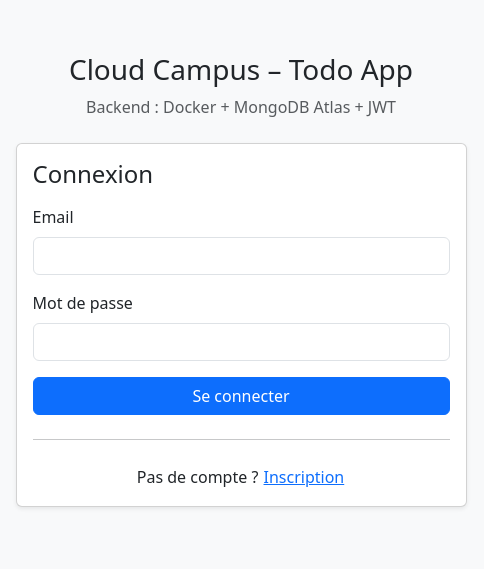
Scenario: App › permet de basculer vers le mode inscription puis retour connexion
Click the button "Inscription".
click(304, 477)  # box x1=262 y1=464 x2=345 y2=490
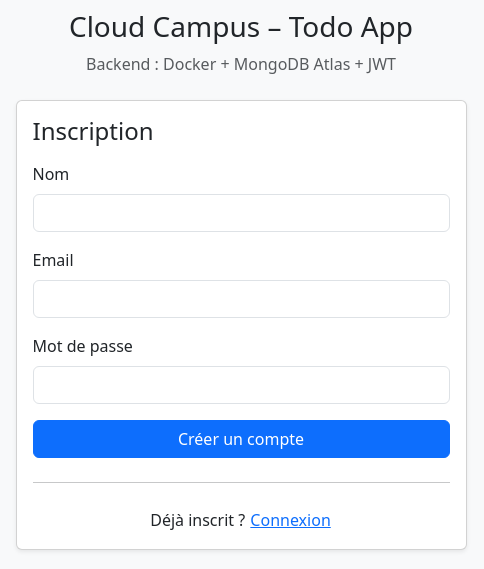
Result: the heading "Inscription" is shown at x1=32 y1=114 x2=154 y2=147
Result: the button "Créer un compte" is shown at x1=32 y1=420 x2=450 y2=458
Click the button "Connexion".
click(290, 520)  # box x1=249 y1=507 x2=332 y2=533
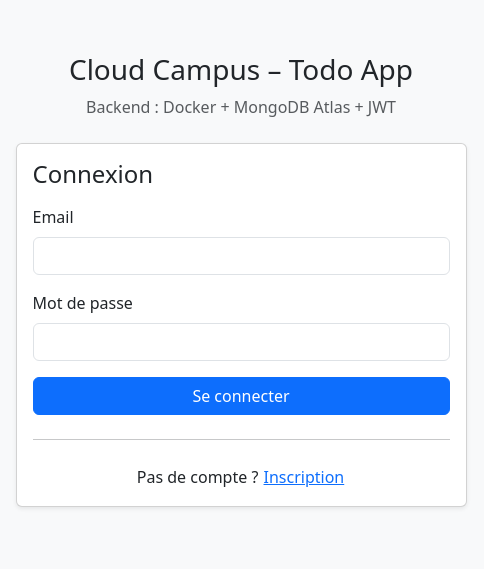
Result: the button "Se connecter" is shown at x1=32 y1=377 x2=450 y2=415
